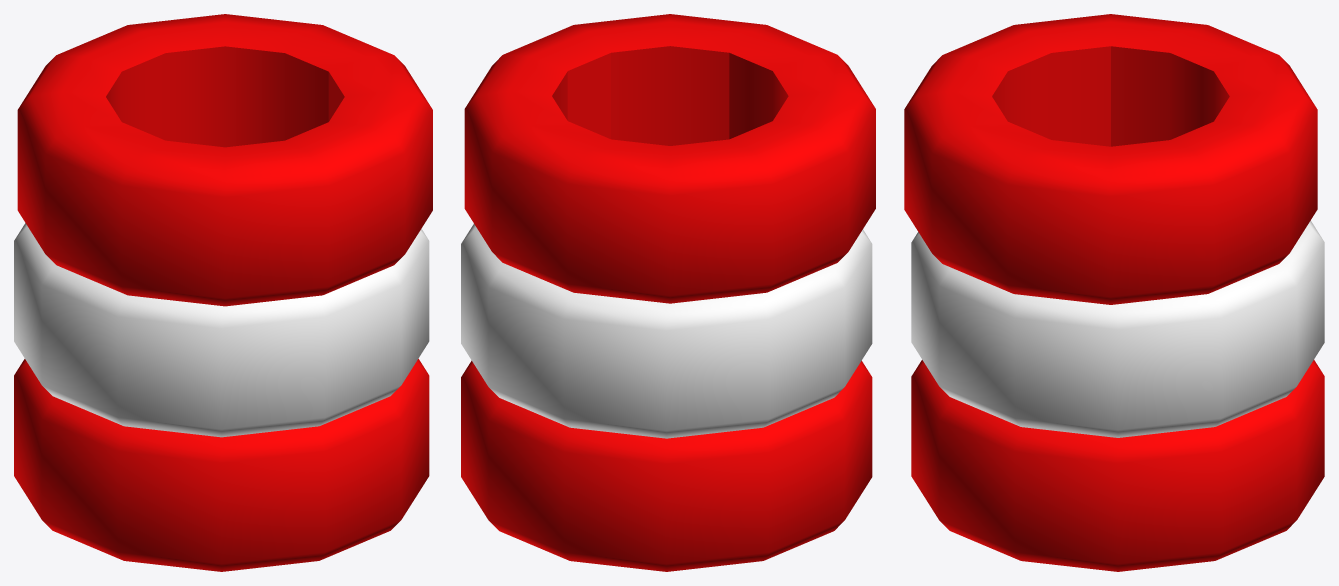
Rendered from Tyre_C.fbx.
3 renders of one model, left to right at view 1: azimuth 30°, elevation 25°; view 2: azimuth 150°, elevation 25°; view 3: azimuth 270°, elevation 25°, orthographic.
Parts seen in each view (by area): view 1: Tyre_C; view 2: Tyre_C; view 3: Tyre_C.
Part boxes in pixels (<box>): Tyre_C: <box>14,14,432,571</box>; Tyre_C: <box>461,14,875,571</box>; Tyre_C: <box>904,14,1324,571</box>.
Size of the model in its own units: 19.9 by 21.46 by 20.24.
